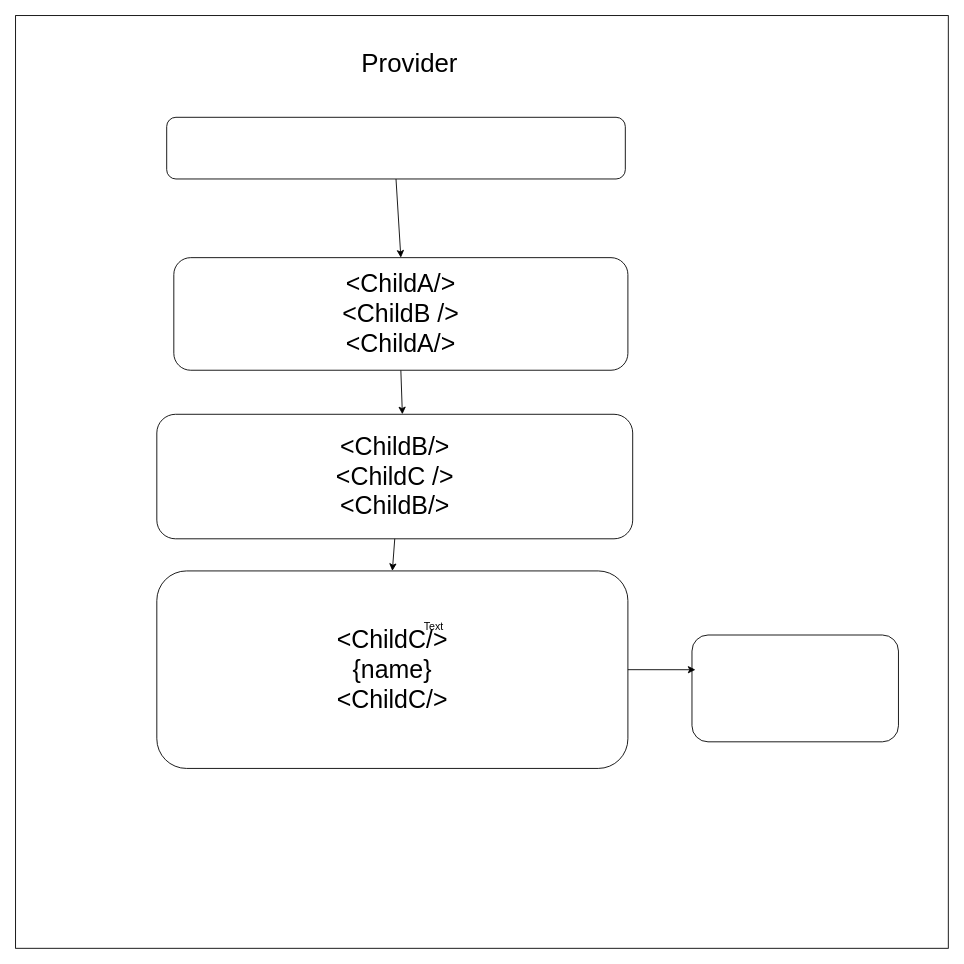
Image size: 964x964. Some labels were removed from this diagram. The shapes that lost their labels are listed below. From the top down, each one's centre as x and y in pixels, then its label:
[395,147]: < APP {name : " Shahbaz "}>
[794,688]: Shahabz
